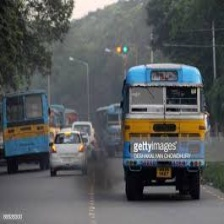smoke: (85, 147, 116, 185)
